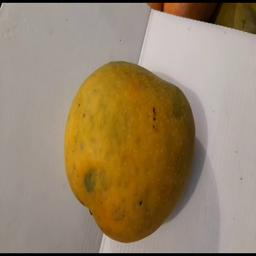Mango Fresh: (53, 55, 204, 242)
